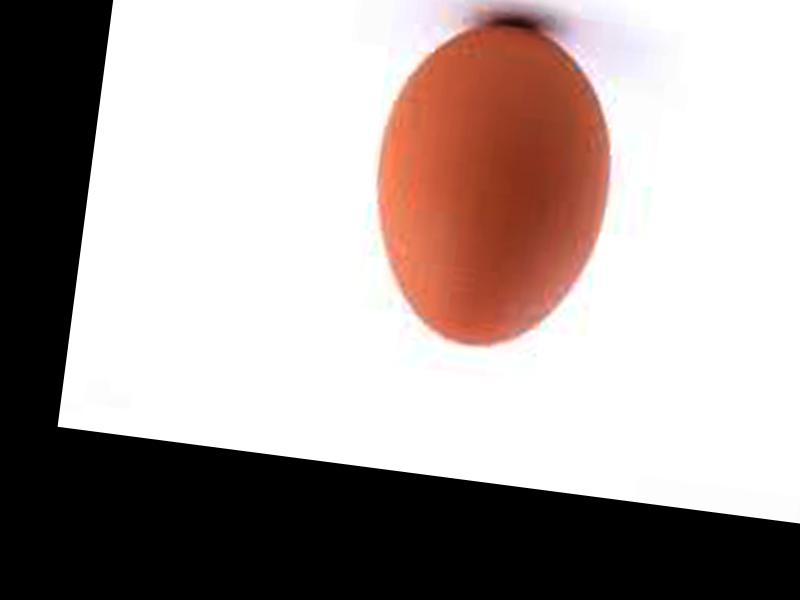Eggs: (360, 11, 630, 363)
